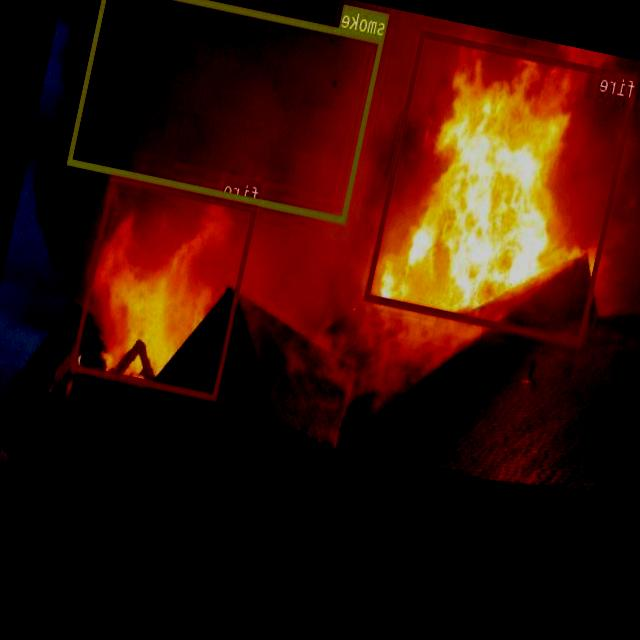fire: (365, 28, 640, 346), (71, 174, 258, 400)
smoke: (68, 0, 385, 222)
